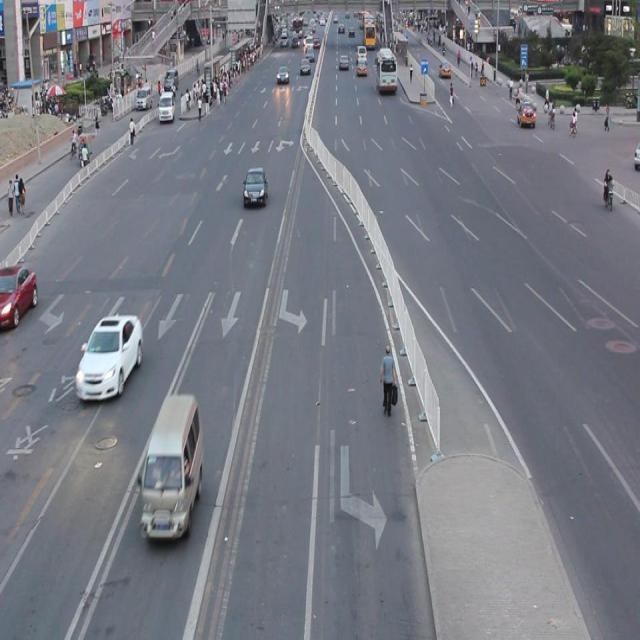car: (75, 310, 142, 400), (1, 266, 38, 328), (242, 167, 268, 208)
truck: (141, 393, 202, 536)
